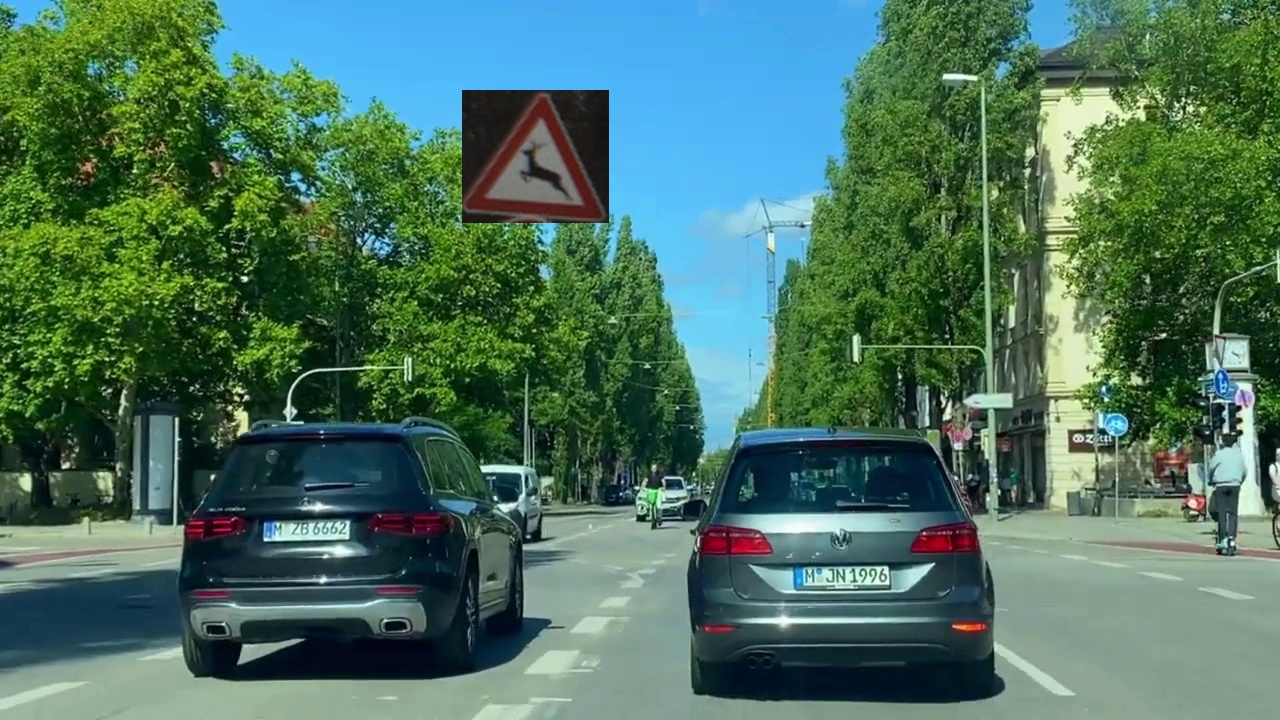Wild animals: (462, 90, 609, 223)
